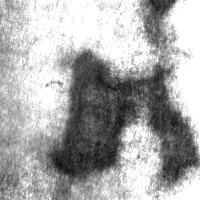patches: (4, 0, 130, 94), (49, 46, 135, 175), (0, 48, 81, 170), (139, 60, 199, 182), (65, 162, 125, 200), (141, 1, 182, 48)
